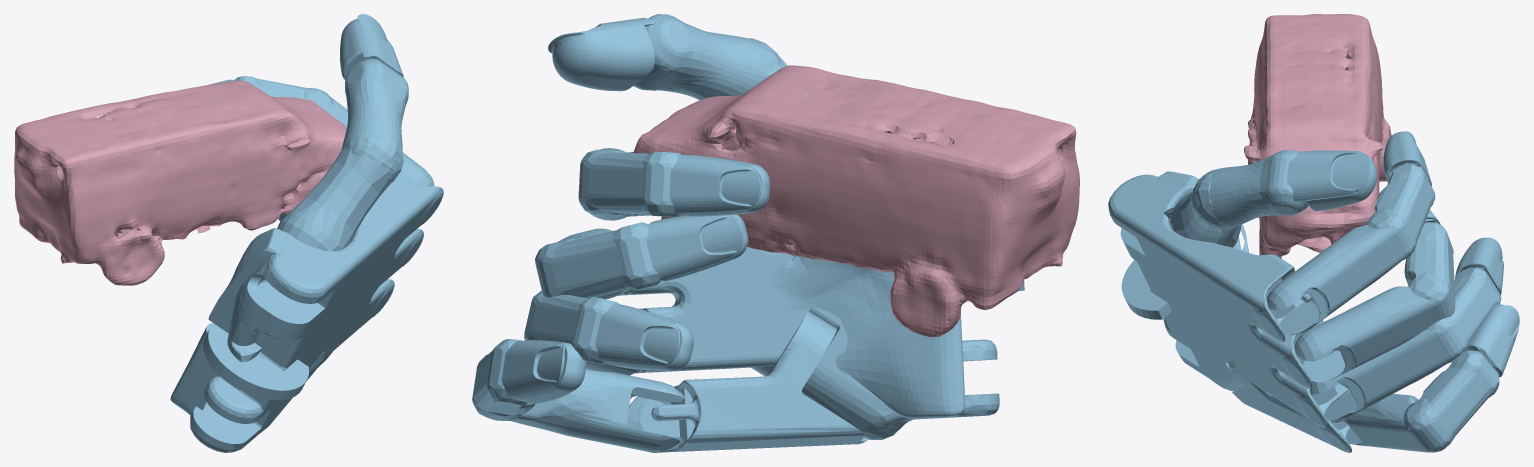
The picture shows the model from 3 angles, left to right: view 1: azimuth 30°, elevation 25°; view 2: azimuth 150°, elevation 25°; view 3: azimuth 270°, elevation 25°; orthographic projection. The views are drawn at different scales.
Visible parts, largest first — view 1: hand, world; view 2: hand, world; view 3: hand, world.
Part boxes in pixels (bbox=[...]): hand: bbox=[170, 14, 443, 452]; world: bbox=[14, 80, 346, 285]; hand: bbox=[472, 14, 1024, 452]; world: bbox=[633, 65, 1079, 337]; hand: bbox=[1108, 131, 1519, 452]; world: bbox=[1244, 14, 1391, 258].
Bounding box in the file's own units: 0.1661 × 0.1295 × 0.1487.
